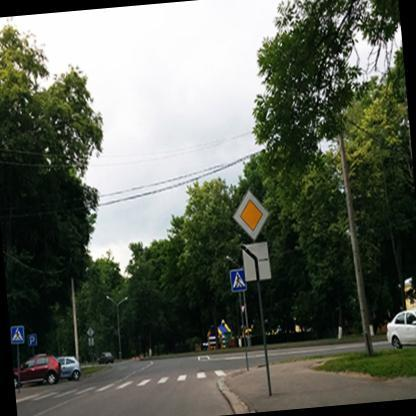road_sign: (233, 190, 268, 240), (241, 242, 271, 281), (231, 269, 245, 292), (11, 326, 24, 344), (28, 334, 38, 348)
